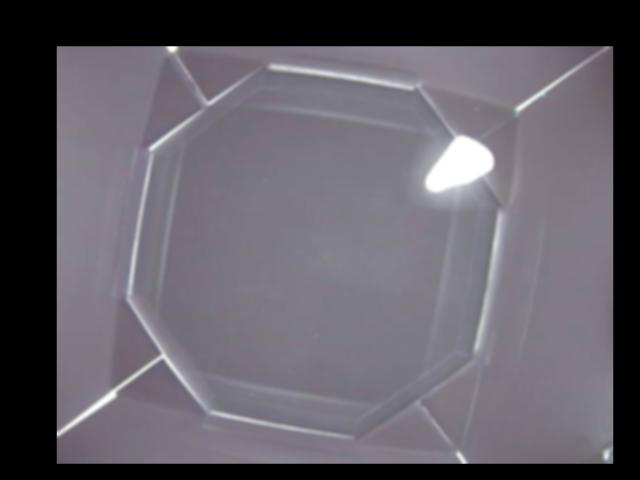Pebble: (424, 134, 495, 194)
